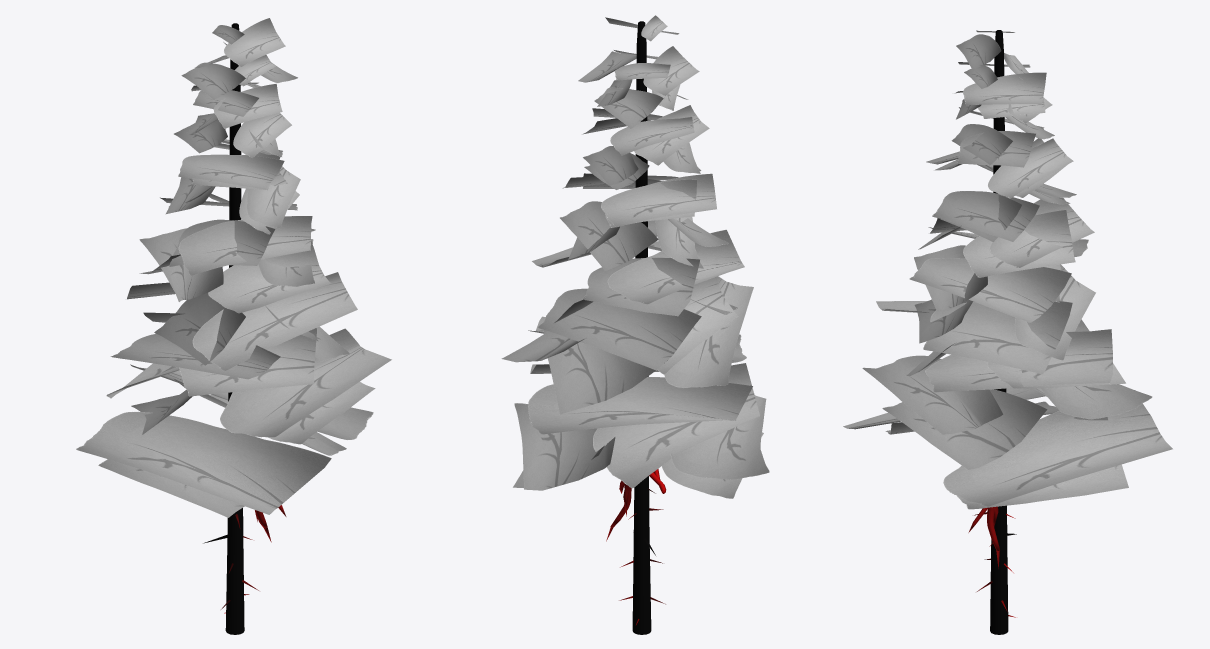
Rendered from M_Pine_5_7.fbx.
The picture shows the model from 3 angles, left to right: view 1: azimuth 30°, elevation 25°; view 2: azimuth 150°, elevation 25°; view 3: azimuth 270°, elevation 25°; orthographic projection.
Visible parts, largest first — view 1: Mobile_Pine_7; view 2: Mobile_Pine_7; view 3: Mobile_Pine_7.
Part boxes in pixels (x1=…): Mobile_Pine_7: x1=76, y1=18, x2=391, y2=634; Mobile_Pine_7: x1=501, y1=15, x2=769, y2=634; Mobile_Pine_7: x1=843, y1=30, x2=1172, y2=634.
Size of the model in its own units: 2218 by 3731 by 2045.
